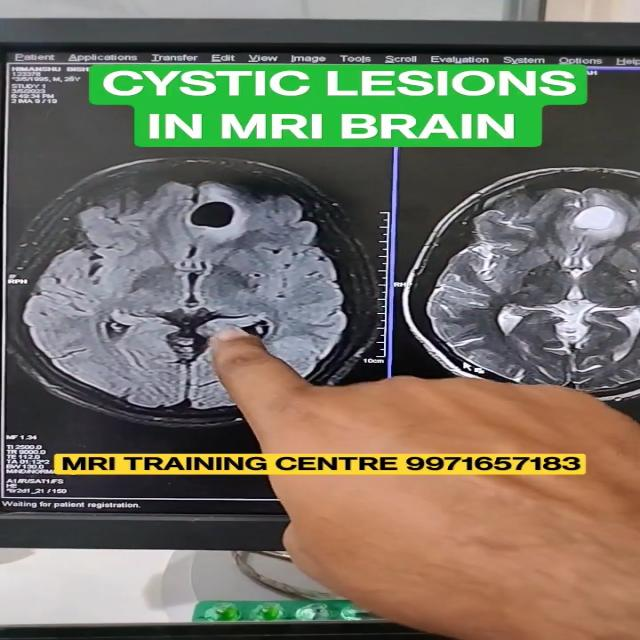tumor: (167, 189, 332, 261), (549, 180, 640, 256)
